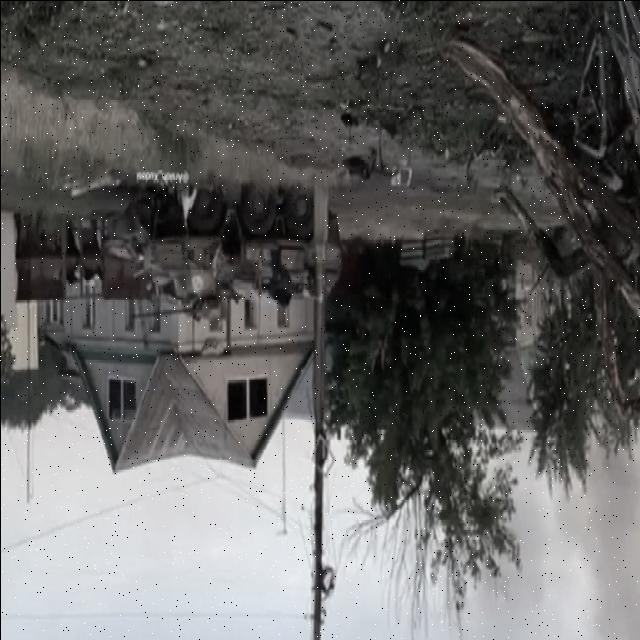APC-IFV: (106, 167, 338, 340)
